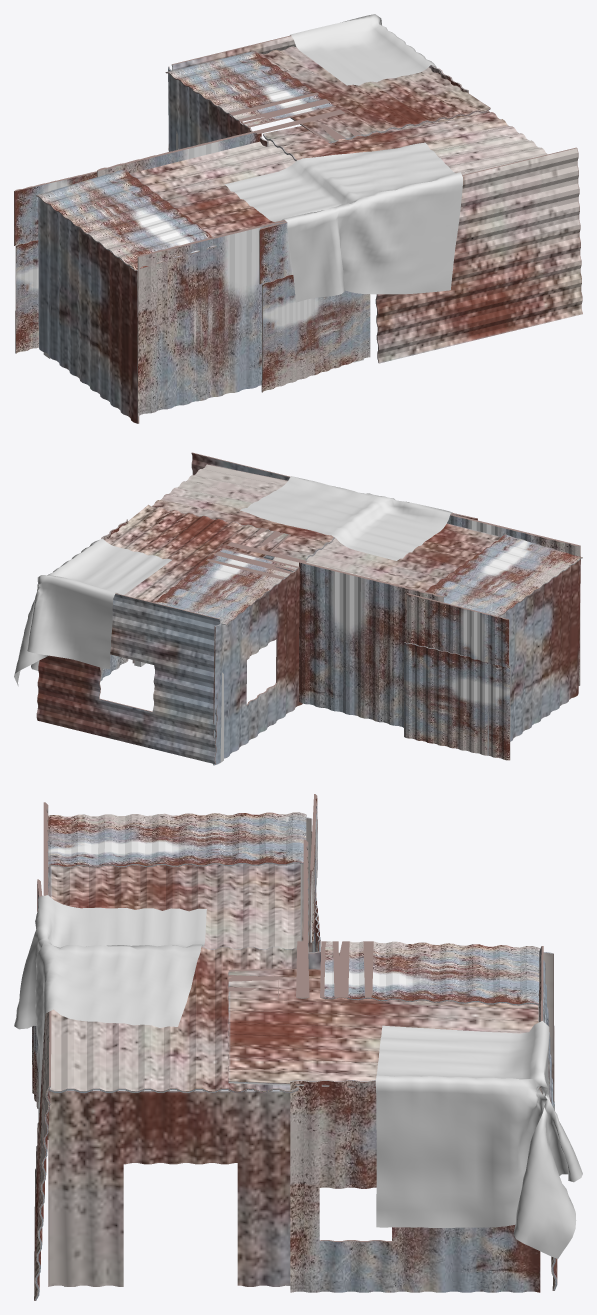
The model's file is rumah.fbx.
3 views of the same model, one above another, from view 1: azimuth 30°, elevation 25°; view 2: azimuth 150°, elevation 25°; view 3: azimuth 270°, elevation 25° (orthographic). The views are drawn at different scales.
Parts seen in each view (by area): view 1: Cube.013, Plane, Plane.001; view 2: Cube.013, Plane.001, Plane; view 3: Cube.013, Plane.001, Plane.
Boxes of the visible parts, x1,y1,x2,y2 form: Cube.013: (14, 35, 582, 423); Plane: (224, 142, 462, 302); Plane.001: (290, 14, 436, 85); Cube.013: (36, 452, 582, 765); Plane.001: (14, 538, 172, 686); Plane: (240, 476, 452, 560); Cube.013: (32, 794, 557, 1300); Plane.001: (375, 1021, 582, 1258); Plane: (14, 895, 206, 1132).
Bounding box in the file's own units: 2026 × 697 × 1579.
